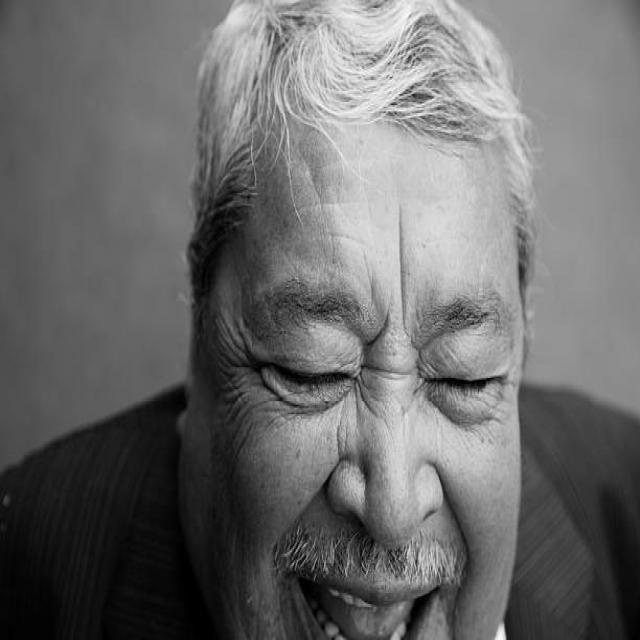real: (178, 50, 533, 640), (218, 249, 538, 437)
